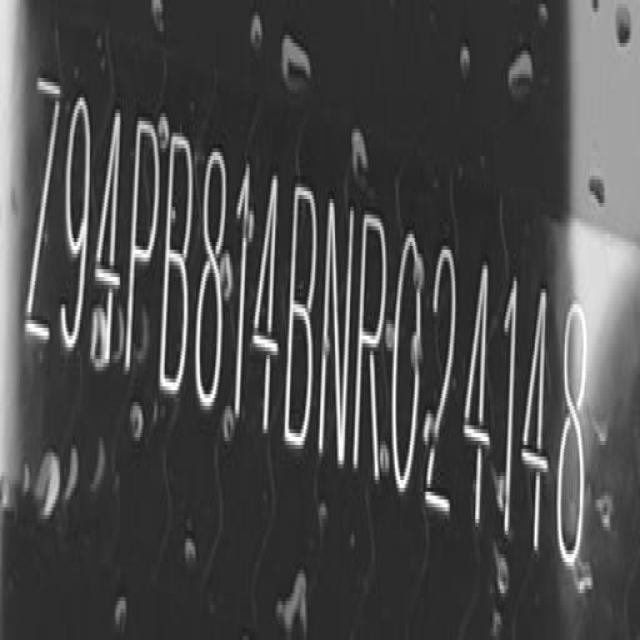0: (390, 228, 423, 502)
1: (494, 273, 520, 549), (230, 165, 252, 428)
2: (423, 244, 458, 517)
4: (518, 280, 553, 559), (457, 257, 492, 535), (252, 167, 286, 444), (92, 103, 126, 374)
8: (554, 298, 588, 574), (196, 142, 230, 414)
9: (60, 91, 93, 359)
B: (160, 120, 196, 393), (286, 183, 321, 460)
N: (318, 197, 356, 473)
P: (126, 109, 162, 382)
R: (354, 214, 390, 486)
Z: (21, 78, 63, 358)
